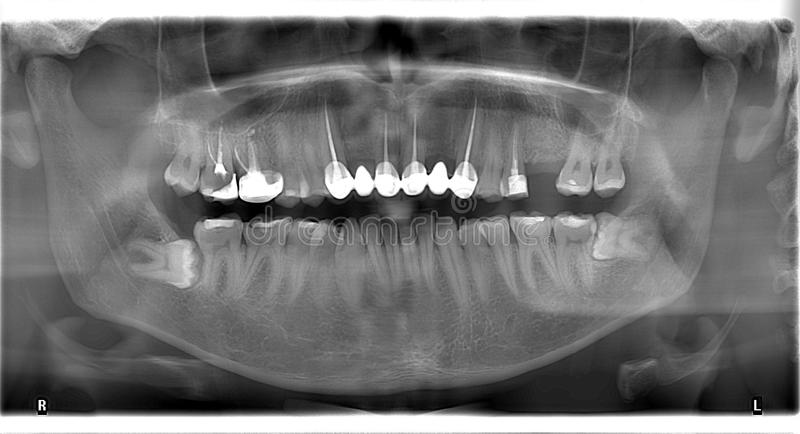canine: (431, 205, 470, 317), (336, 205, 368, 309)
incisor: (355, 208, 391, 305), (411, 204, 439, 297), (396, 208, 422, 296), (378, 207, 402, 294)
molar: (236, 203, 295, 318), (123, 221, 204, 302), (505, 197, 563, 299), (189, 208, 245, 313), (548, 199, 600, 302), (590, 195, 664, 267), (234, 109, 286, 209), (195, 105, 242, 208), (553, 105, 598, 202), (161, 106, 202, 201), (592, 102, 628, 201)
premolar: (452, 206, 497, 315), (475, 206, 519, 309), (304, 204, 343, 315), (284, 205, 316, 315), (298, 108, 330, 215), (474, 98, 504, 208), (273, 116, 302, 212)
